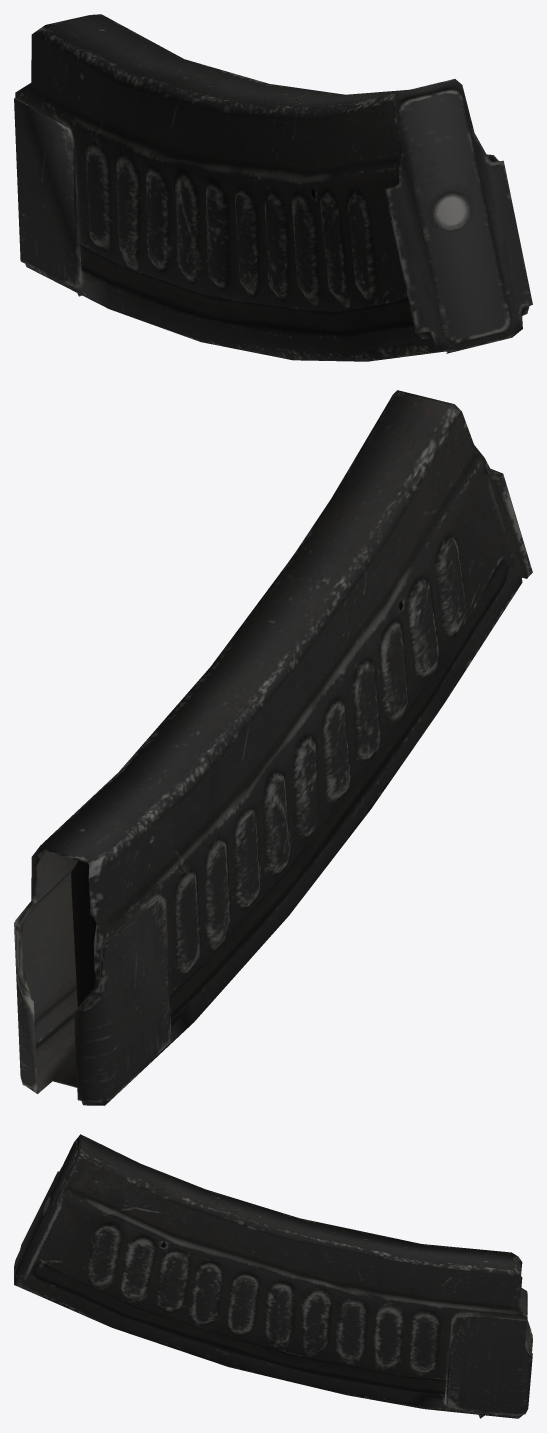
The model's file is Mag9x39ExtLg.fbx.
3 renders of one model, top to bottom at view 1: azimuth 30°, elevation 25°; view 2: azimuth 150°, elevation 25°; view 3: azimuth 270°, elevation 25°, orthographic. The views are drawn at different scales.
Parts seen in each view (by area): view 1: Mag9x39ExtLg; view 2: Mag9x39ExtLg; view 3: Mag9x39ExtLg.
Part boxes in pixels (left/top/right/bottom): Mag9x39ExtLg: left=14, top=14, right=532, bottom=361; Mag9x39ExtLg: left=14, top=390, right=532, bottom=1105; Mag9x39ExtLg: left=14, top=1134, right=532, bottom=1418.
Bounding box in the file's own units: 0.021 × 0.0763 × 0.1322.
